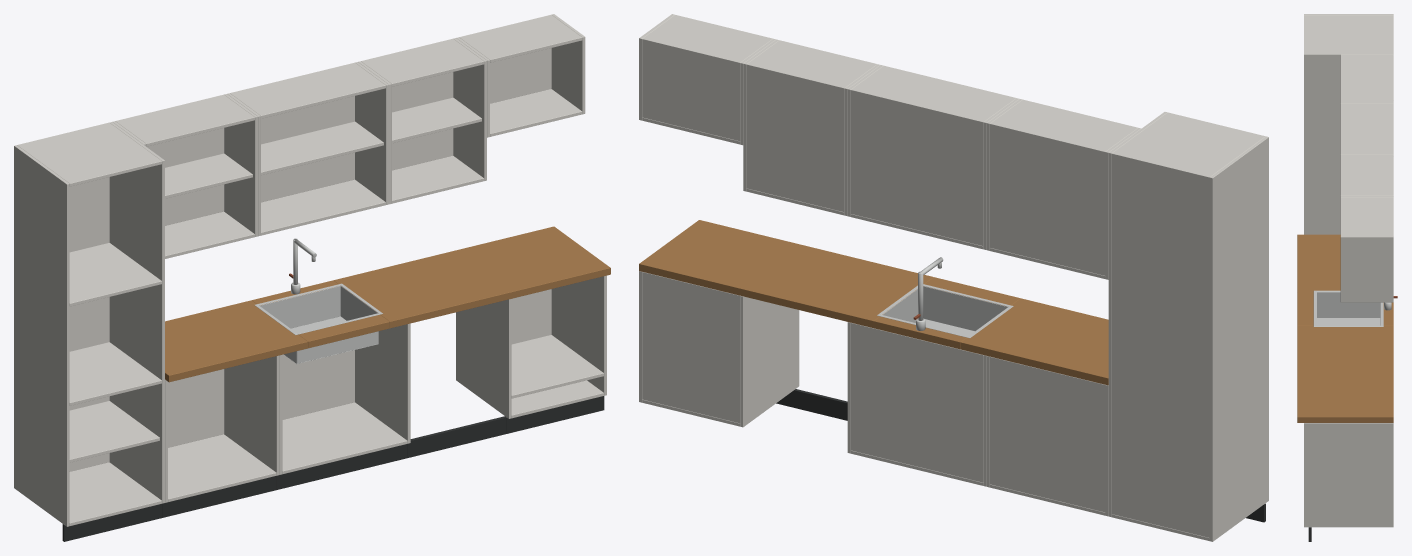
Rendered from kitchen_run_cabinets_long_body.glb.
3 renders of one model, left to right at view 1: azimuth 30°, elevation 25°; view 2: azimuth 150°, elevation 25°; view 3: azimuth 270°, elevation 25°, orthographic. The views are drawn at different scales.
Visible parts, largest first — view 1: kitchen_run_cabinets_long_body; view 2: kitchen_run_cabinets_long_body; view 3: kitchen_run_cabinets_long_body.
Boxes of the visible parts, box(x1,y1,x2,y2) form: kitchen_run_cabinets_long_body: box(14, 14, 610, 541); kitchen_run_cabinets_long_body: box(639, 14, 1268, 541); kitchen_run_cabinets_long_body: box(1297, 14, 1397, 541).
Size of the model in its own units: 3.3 by 2.1 by 0.625.
